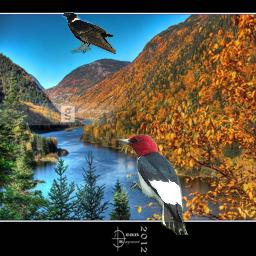Crow: (62, 11, 116, 54)
Woodpecker: (113, 134, 190, 235)
